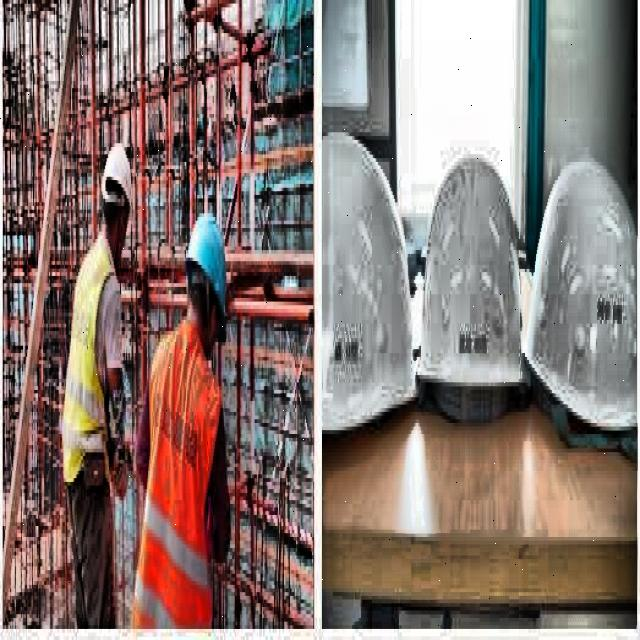helmet: (180, 202, 232, 360), (100, 144, 132, 250)
